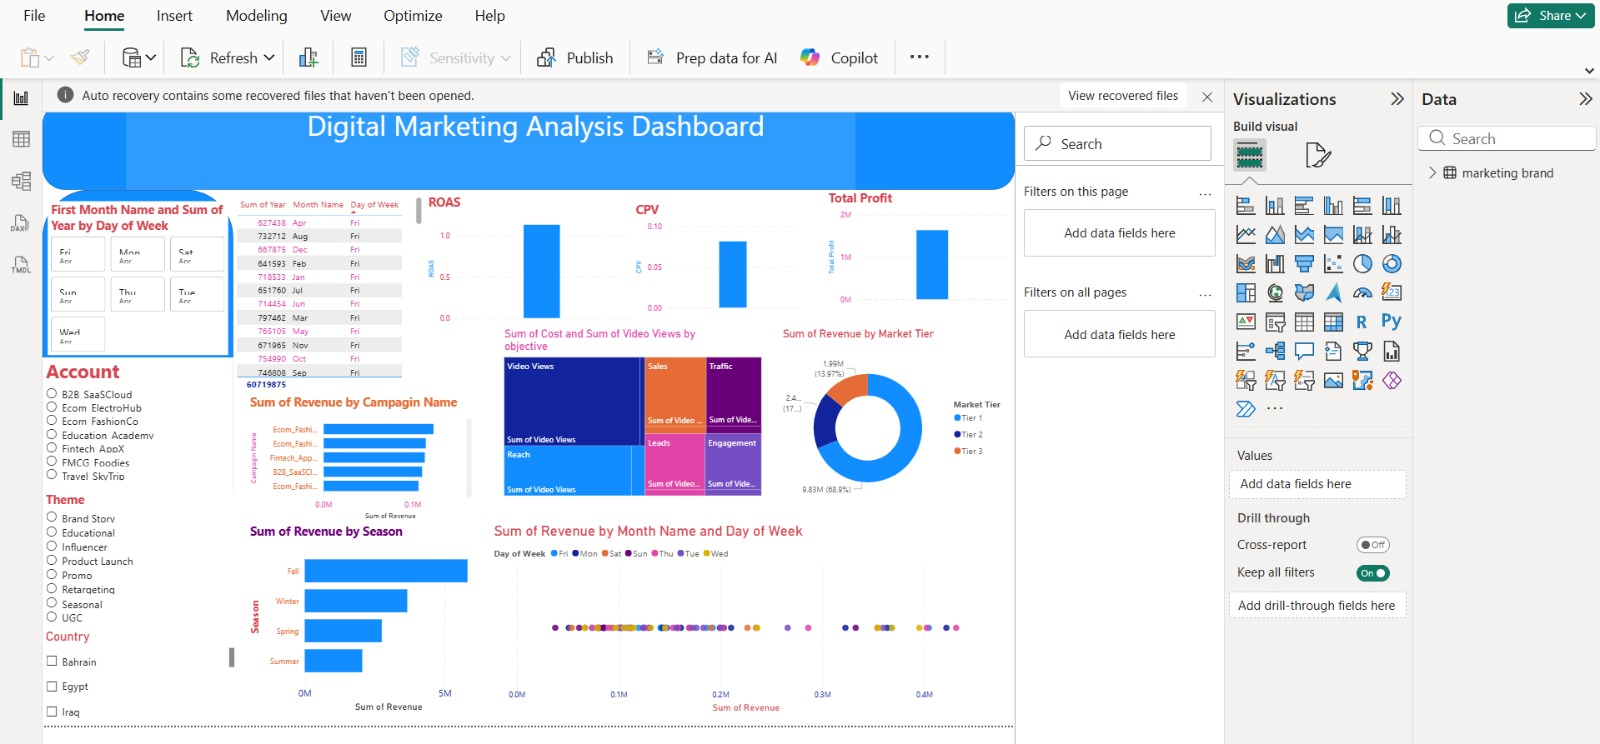

The dashboard page shown, as its layout file describes it:
{"tool":"powerbi","page":{"name":"Page 1","canvas":[1500,1000],"ordinal":0},"visuals":[{"type":"tableEx","fields":{"Values":["Sum(marketing brand.Year)","marketing brand.Month Name","marketing brand.Day of Week"]},"box":[294.3,178.5,295.9,308.7],"z":0},{"type":"clusteredColumnChart","fields":{"Y":["marketing brand.CPV"]},"box":[910.2,189.8,262.1,178.5],"z":1000},{"type":"clusteredColumnChart","fields":{"Y":["marketing brand.ROAS"]},"box":[590.2,178.5,320,205.8],"z":2000},{"type":"clusteredColumnChart","fields":{"Y":["marketing brand.Total Profit"]},"box":[1207.7,172.1,287.8,183.3],"z":3000},{"type":"shape","box":[0,37,1500.3,135.1],"z":4000},{"type":"textbox","box":[128.6,37,1125.6,135.1],"z":5000},{"type":"donutChart","fields":{"Category":["marketing brand.Market Tier"],"Y":["Sum(marketing brand.Revenue)"]},"box":[1136.9,384.3,363.4,291.1],"z":6000},{"type":"clusteredBarChart","fields":{"Category":["marketing brand.Campagin Name"],"Y":["Sum(marketing brand.Revenue)"]},"box":[315.2,487.2,352.2,199.4],"z":7000},{"type":"treemap","fields":{"Group":["marketing brand.objective"],"Values":["Sum(marketing brand.Cost)","Sum(marketing brand.Video Views)"]},"box":[707.5,384.3,406.8,265.3],"z":8000},{"type":"clusteredBarChart","fields":{"Y":["Sum(marketing brand.Revenue)"],"Category":["marketing brand.Season"]},"box":[315.2,686.6,365,297.5],"z":9000},{"type":"scatterChart","fields":{"Category":["marketing brand.Month Name"],"Series":["marketing brand.Day of Week"],"X":["Sum(marketing brand.Revenue)"]},"box":[691.5,686.6,767,297.5],"z":10000},{"type":"shape","box":[0,172.1,294.3,648.1],"z":11000},{"type":"textbox","box":[0,189.8,294.3,630.4],"z":12000},{"type":"advancedSlicerVisual","fields":{"Values":["marketing brand.Day of Week"],"Label":["Min(marketing brand.Month Name)"]},"box":[8,189.8,278.2,238],"z":13000},{"type":"listSlicer","fields":{"Values":["marketing brand.Account"]},"box":[0,431,294.3,218.7],"z":14000},{"type":"listSlicer","fields":{"Values":["marketing brand.Theme"]},"box":[0,636.8,300.7,210.7],"z":15000},{"type":"listSlicer","fields":{"Values":["marketing brand.Country"]},"box":[0,850,301,150],"z":16000}]}

Visuals, with their boxes on the page's 1500x1000 design canvas (x1, y1, x2, y2). These are canvas units, not pixel positions in the 1600x744 screenshot, which may show the page scaled, cropped or inside an application window:
tableEx - Sum(marketing brand.Year) x marketing brand.Month Name: bbox=[294, 178, 590, 487]
clusteredColumnChart - marketing brand.CPV: bbox=[910, 190, 1172, 368]
clusteredColumnChart - marketing brand.ROAS: bbox=[590, 178, 910, 384]
clusteredColumnChart - marketing brand.Total Profit: bbox=[1208, 172, 1496, 355]
shape: bbox=[0, 37, 1500, 172]
textbox: bbox=[129, 37, 1254, 172]
donutChart - marketing brand.Market Tier x Sum(marketing brand.Revenue): bbox=[1137, 384, 1500, 675]
clusteredBarChart - marketing brand.Campagin Name x Sum(marketing brand.Revenue): bbox=[315, 487, 667, 687]
treemap - marketing brand.objective x Sum(marketing brand.Cost): bbox=[708, 384, 1114, 650]
clusteredBarChart - Sum(marketing brand.Revenue) x marketing brand.Season: bbox=[315, 687, 680, 984]
scatterChart - marketing brand.Month Name x marketing brand.Day of Week: bbox=[692, 687, 1458, 984]
shape: bbox=[0, 172, 294, 820]
textbox: bbox=[0, 190, 294, 820]
advancedSlicerVisual - marketing brand.Day of Week x Min(marketing brand.Month Name): bbox=[8, 190, 286, 428]
listSlicer - marketing brand.Account: bbox=[0, 431, 294, 650]
listSlicer - marketing brand.Theme: bbox=[0, 637, 301, 848]
listSlicer - marketing brand.Country: bbox=[0, 850, 301, 1000]
